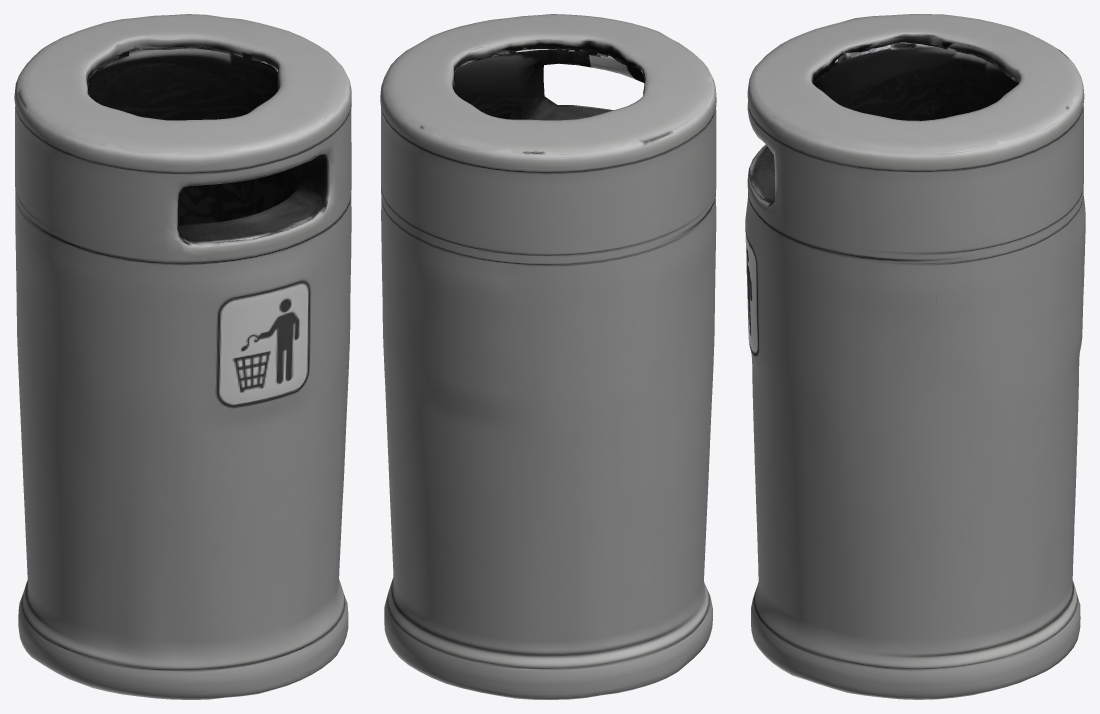
Rendered from Meshy_AI_çöp_kutusu_0102212949_texture.fbx.
3 renders of one model, left to right at view 1: azimuth 30°, elevation 25°; view 2: azimuth 150°, elevation 25°; view 3: azimuth 270°, elevation 25°, orthographic.
Visible parts, largest first — view 1: Mesh0; view 2: Mesh0; view 3: Mesh0.
Part boxes in pixels (box(x1,y1,x2,y2)): Mesh0: box(14, 14, 351, 699); Mesh0: box(380, 14, 716, 699); Mesh0: box(745, 14, 1085, 699).
Size of the model in its own units: 105 by 192 by 106.
Materials: 1 (1 with a texture image).
